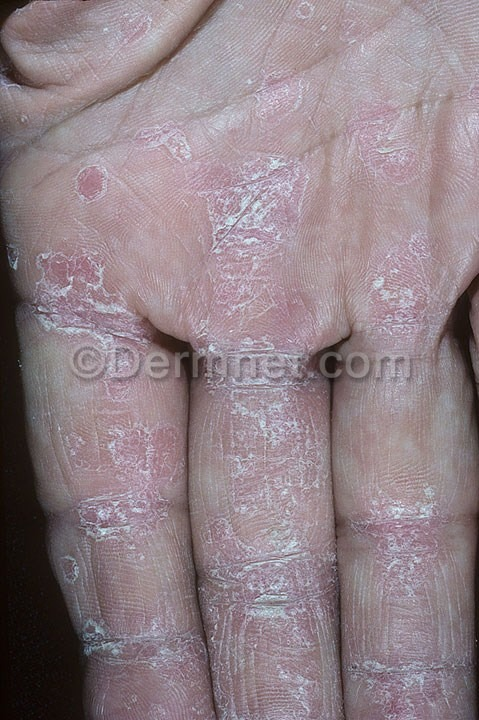Psoriasis: (190, 108, 342, 712), (74, 396, 190, 705), (359, 102, 465, 367), (14, 138, 151, 342), (362, 478, 465, 720)
